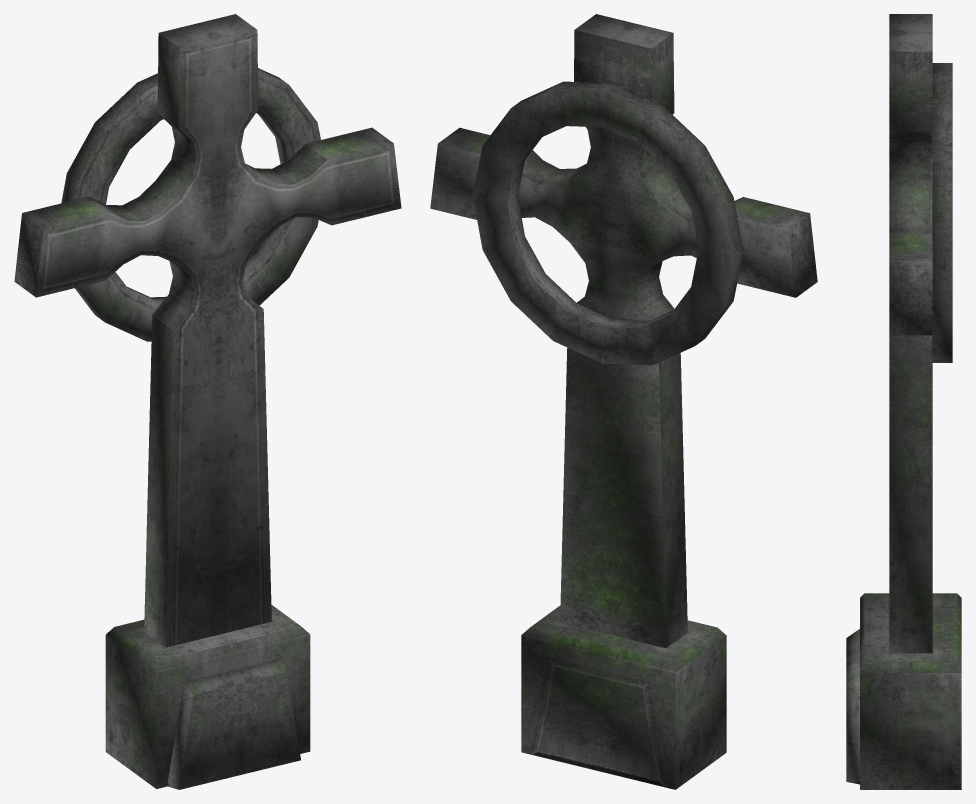
File: TallGrave.fbx
The picture shows the model from 3 angles, left to right: view 1: azimuth 30°, elevation 25°; view 2: azimuth 150°, elevation 25°; view 3: azimuth 270°, elevation 25°; orthographic projection.
Parts seen in each view (by area): view 1: defaultMaterial.002; view 2: defaultMaterial.002; view 3: defaultMaterial.002.
Part boxes in pixels (<box>): defaultMaterial.002: <box>14,14,401,789</box>; defaultMaterial.002: <box>430,14,817,789</box>; defaultMaterial.002: <box>846,14,961,789</box>.
Size of the model in its own units: 106 by 200 by 29.06.
